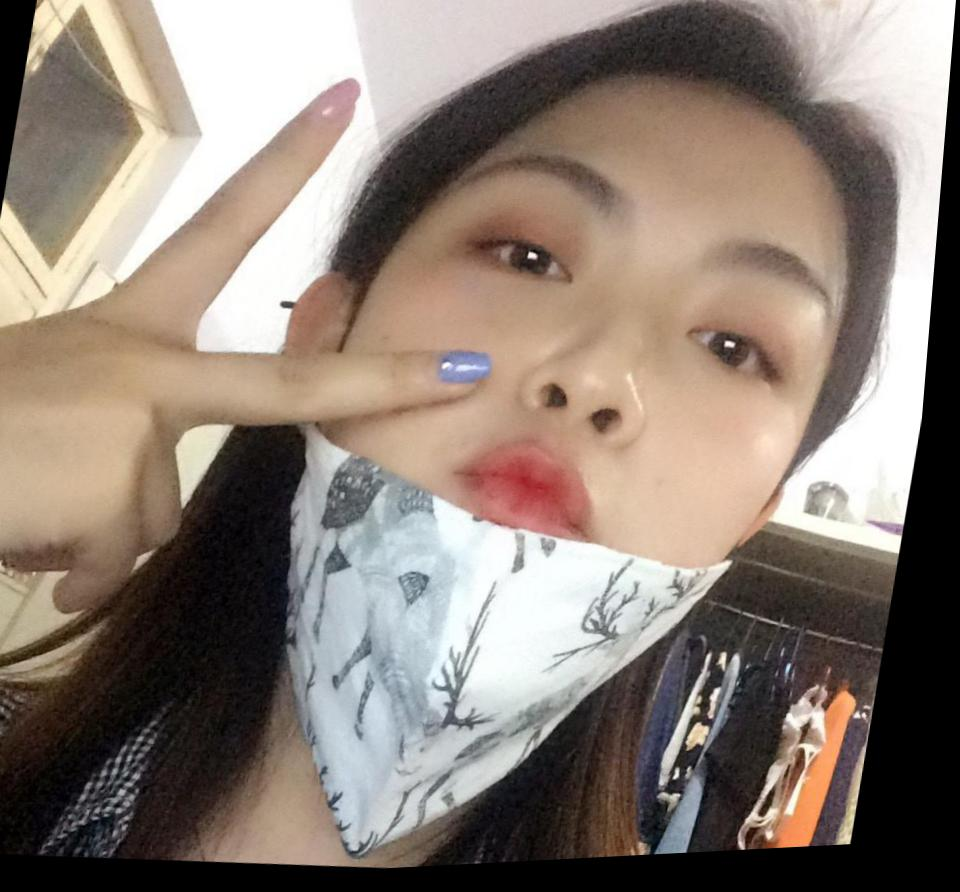WRONG: (263, 118, 867, 768)
